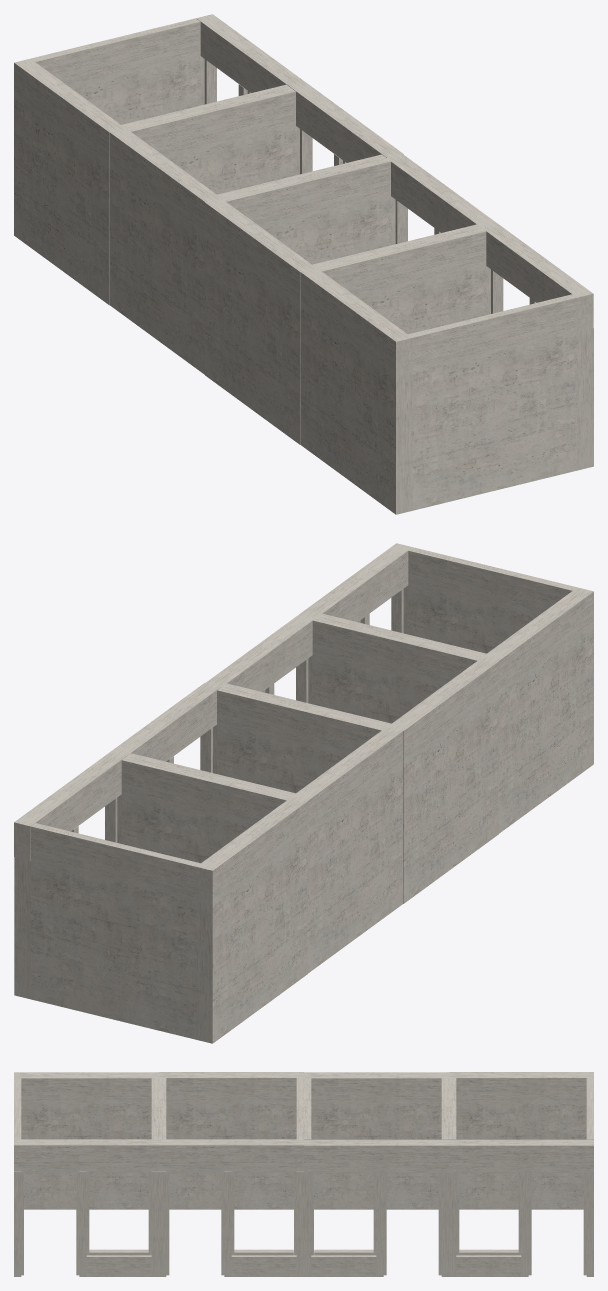
The model's file is InnerWalls4.fbx.
The picture shows the model from 3 angles, top to bottom: view 1: azimuth 30°, elevation 25°; view 2: azimuth 150°, elevation 25°; view 3: azimuth 270°, elevation 25°; orthographic projection. The views are drawn at different scales.
Visible parts, largest first — view 1: walls, tops; view 2: walls, tops; view 3: walls, tops.
Boxes of the visible parts, x1=… form: walls: x1=14, y1=56, x2=593, y2=514; tops: x1=14, y1=14, x2=593, y2=376; walls: x1=14, y1=585, x2=593, y2=1043; tops: x1=14, y1=543, x2=593, y2=905; walls: x1=14, y1=1104, x2=593, y2=1276; tops: x1=14, y1=1072, x2=593, y2=1171.
Size of the model in its own units: 12.02 by 10 by 40.
